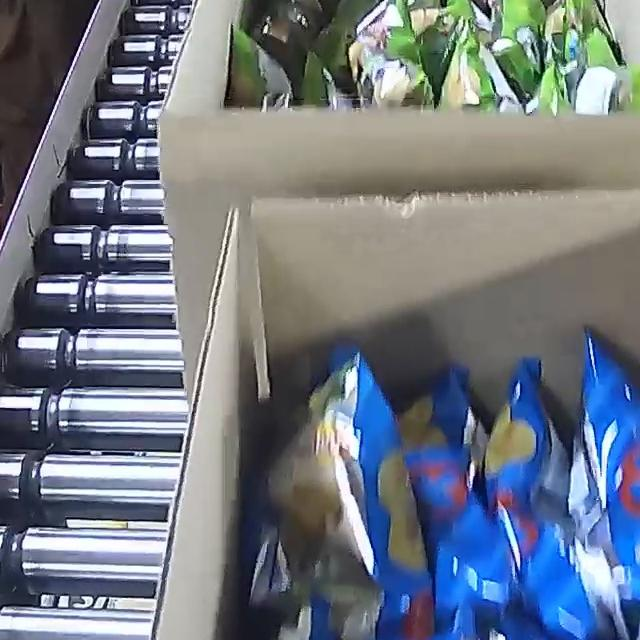paprika: (243, 327, 640, 640)
yogurt: (228, 0, 640, 115)
